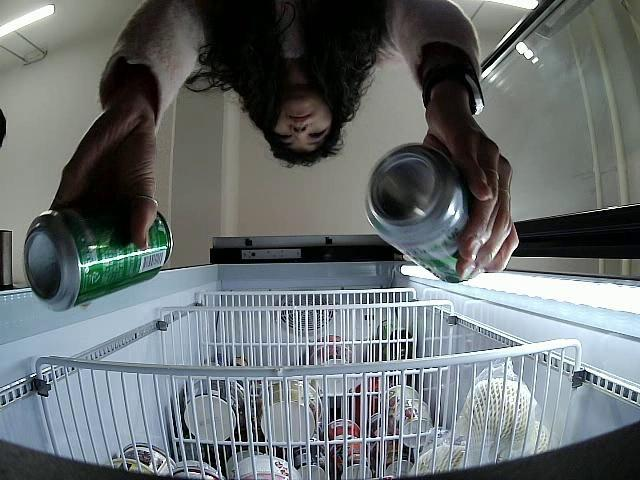12_chilsungCider: (24, 198, 175, 312), (365, 142, 482, 286)
